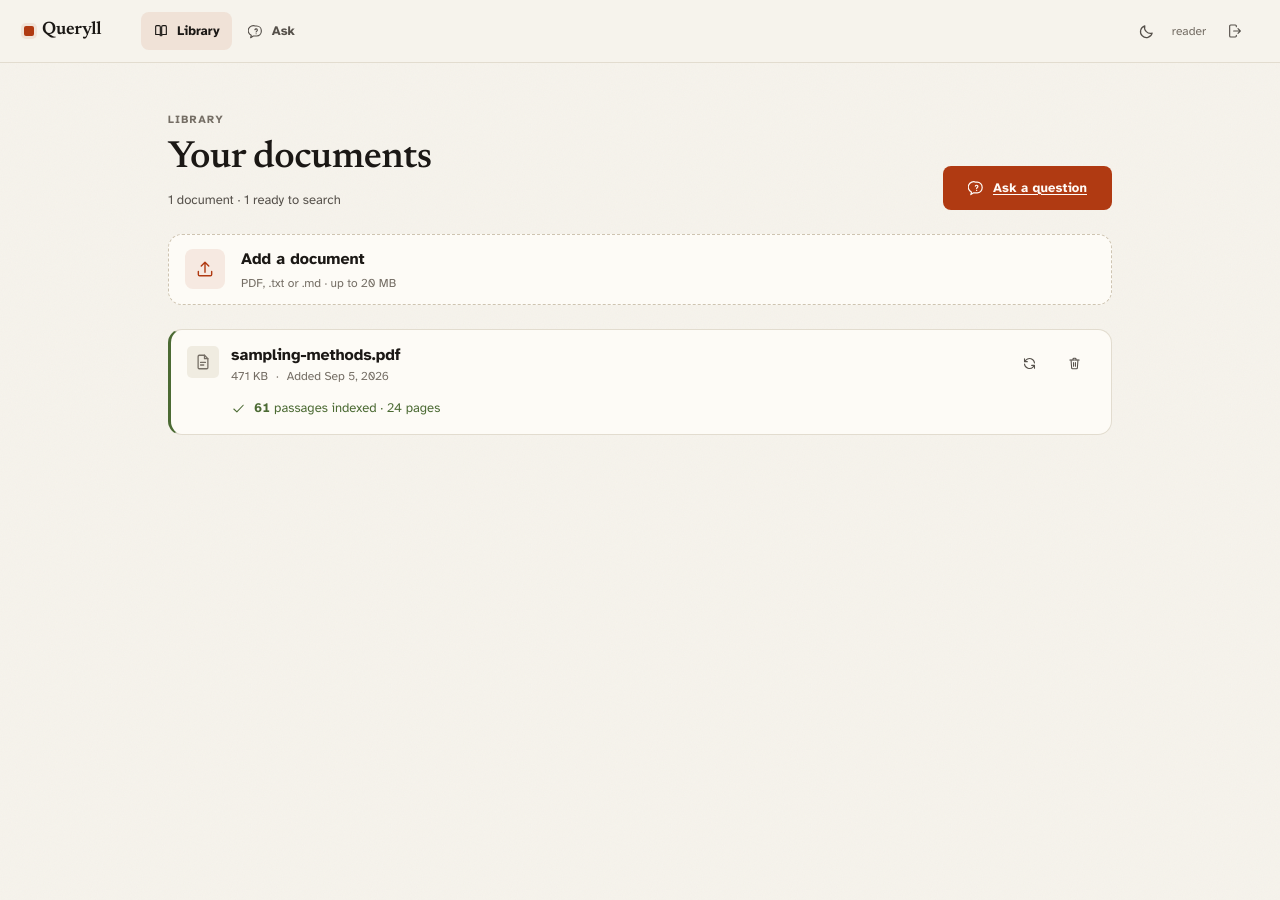
Test: deleting › surfaces the 409 sentence when a delete races the worker
What coordinates should you click on to do the following:
click the button named "Delete sampling-methods.pdf"
I would click on:
 (1074, 363)
Its box is 1054,346 -> 1095,380.
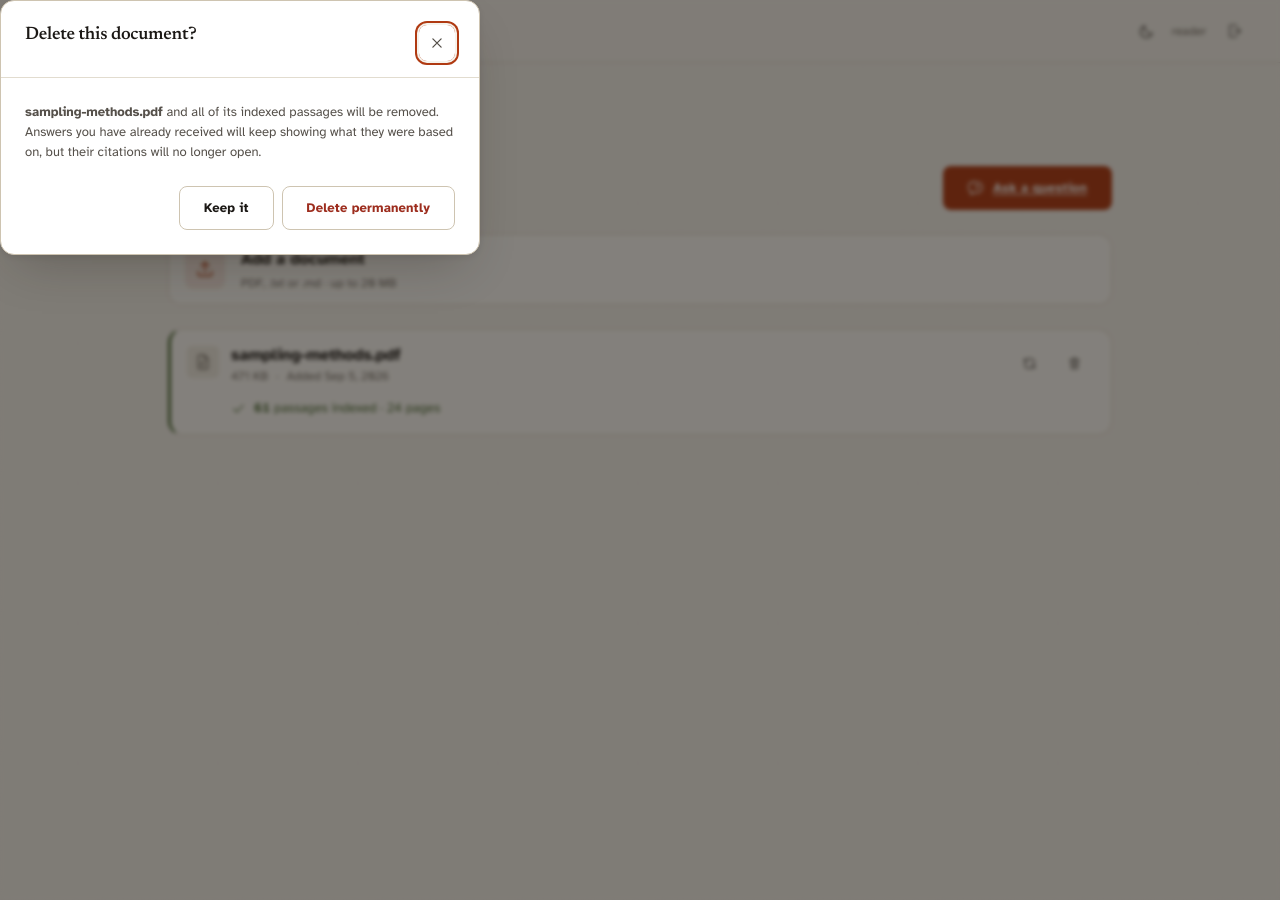
What coordinates should you click on to do the following:
click the button "Delete permanently"
I would click on:
 (368, 208)
Its box is 282,186 -> 455,230.
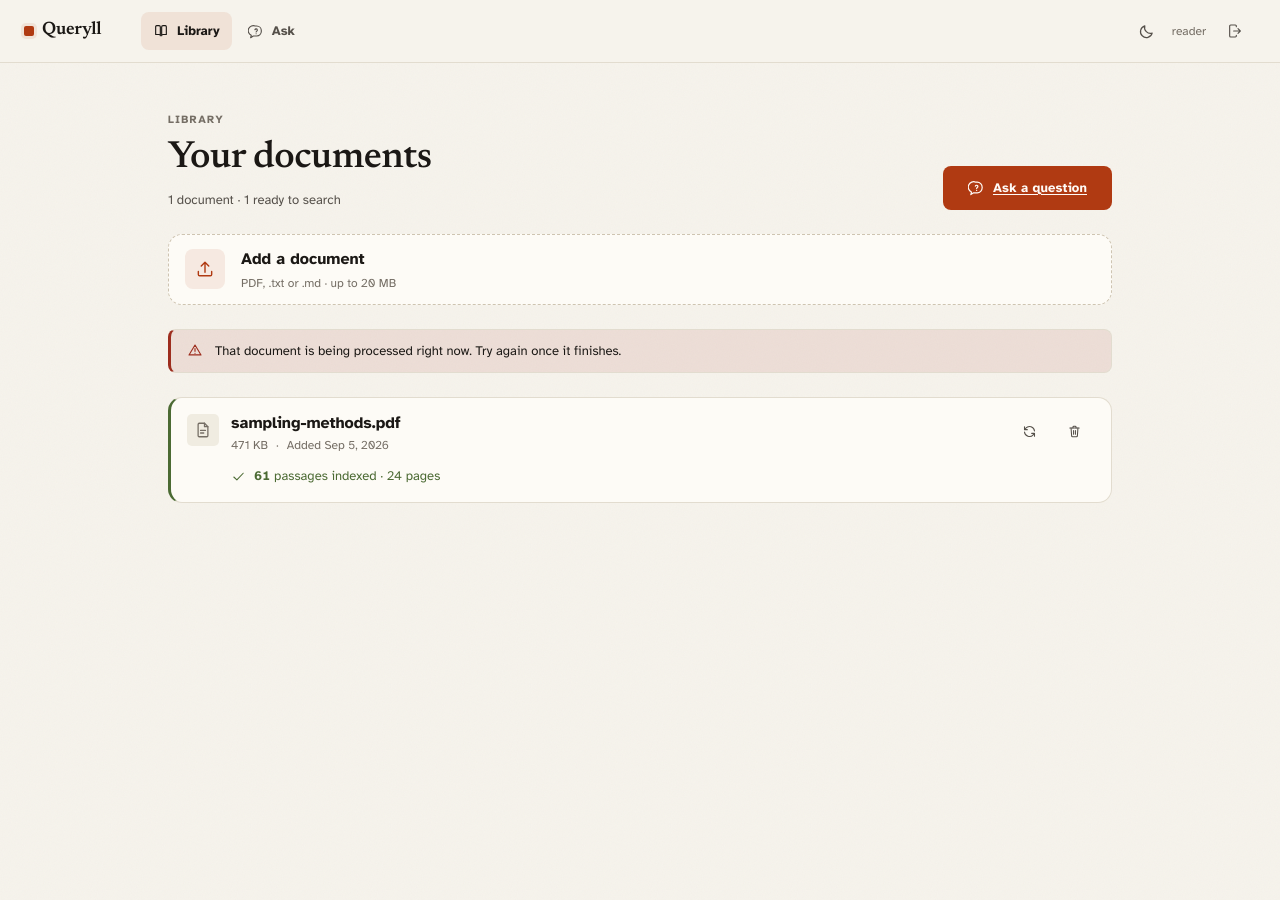
Check: the message reads "That document is being processed right now. Try again once it finishes.", box 215,343 -> 621,359
